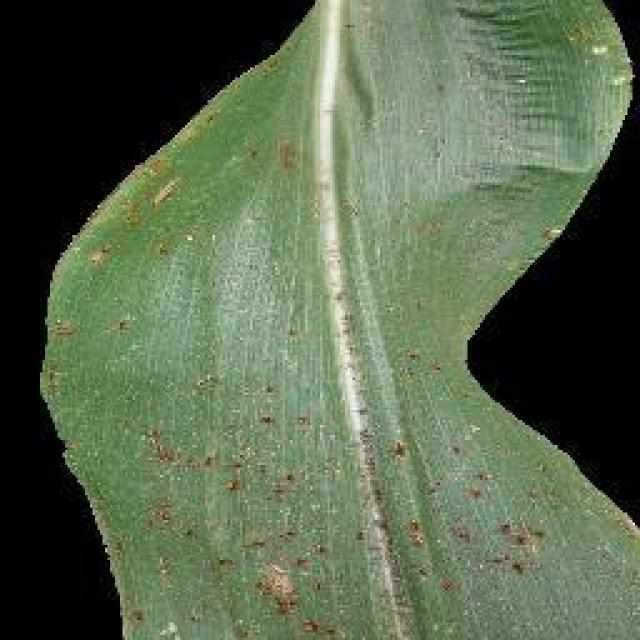Corn Common Rust: (125, 180, 547, 607)
